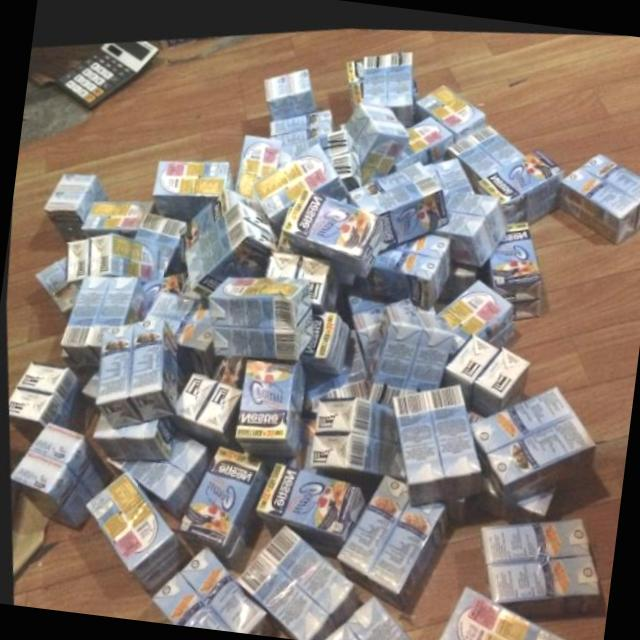vo_hop_sua: (229, 517, 359, 640), (331, 468, 442, 604), (466, 383, 591, 491), (81, 460, 187, 584), (475, 515, 599, 619), (145, 537, 271, 636), (6, 409, 108, 518), (388, 379, 476, 500), (174, 436, 262, 552), (251, 454, 360, 539), (92, 304, 174, 416), (281, 181, 382, 271), (361, 299, 450, 398), (104, 420, 203, 509), (183, 193, 275, 288), (206, 267, 310, 351), (348, 155, 447, 243), (252, 136, 348, 223), (302, 390, 401, 473), (558, 151, 640, 244), (432, 581, 559, 640), (58, 263, 143, 351), (352, 228, 448, 304), (5, 347, 92, 429), (231, 350, 300, 452), (477, 146, 562, 220), (478, 219, 542, 316), (433, 184, 505, 262), (446, 121, 524, 191), (169, 362, 239, 440), (434, 275, 511, 344), (346, 95, 409, 177), (152, 149, 232, 211), (311, 590, 410, 640), (436, 329, 496, 407), (63, 221, 155, 271), (42, 160, 107, 229), (265, 243, 334, 306), (466, 342, 527, 413), (413, 79, 486, 137), (363, 45, 413, 121)
